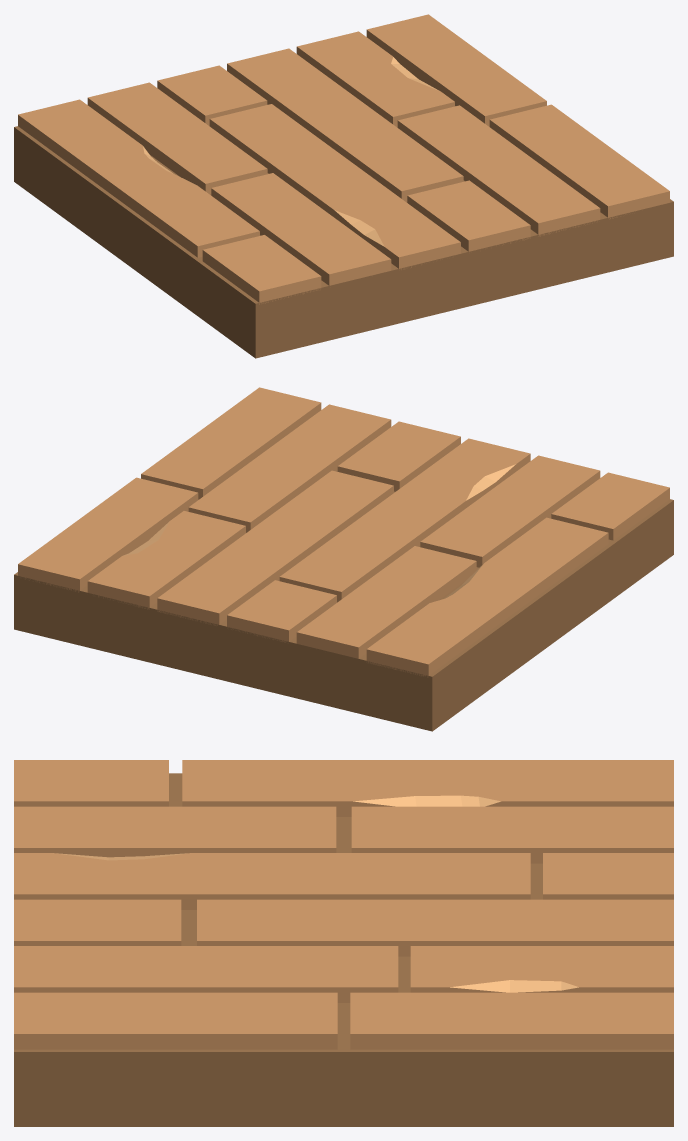
File: quaternius-sushi-restaurant-floor-wood.glb
The picture shows the model from 3 angles, top to bottom: view 1: azimuth 30°, elevation 25°; view 2: azimuth 150°, elevation 25°; view 3: azimuth 270°, elevation 25°; orthographic projection. The views are drawn at different scales.
Parts seen in each view (by area): view 1: Floor_Wood; view 2: Floor_Wood; view 3: Floor_Wood.
Boxes of the visible parts, bbox=[...] form: Floor_Wood: bbox=[14, 14, 673, 358]; Floor_Wood: bbox=[14, 387, 673, 731]; Floor_Wood: bbox=[14, 760, 673, 1126].
Bounding box in the file's own units: 4 × 0.605 × 4.
Materials: 1 (1 with a texture image).
